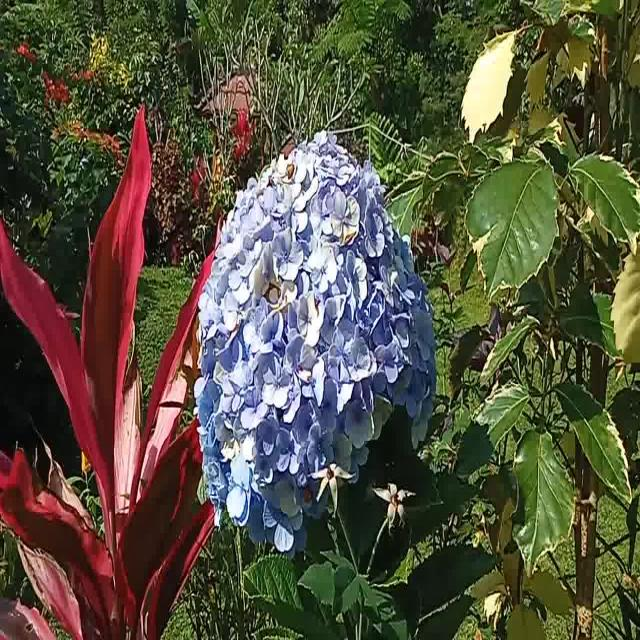Flower: (193, 125, 437, 549)
